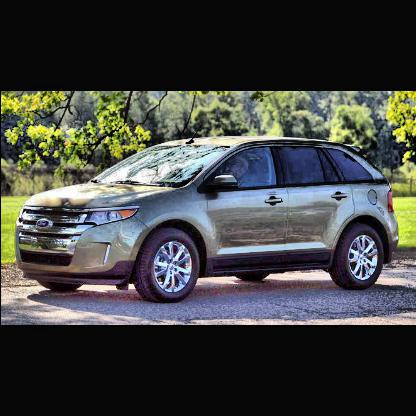Ford Edge SUV 2012: (14, 124, 402, 305)
